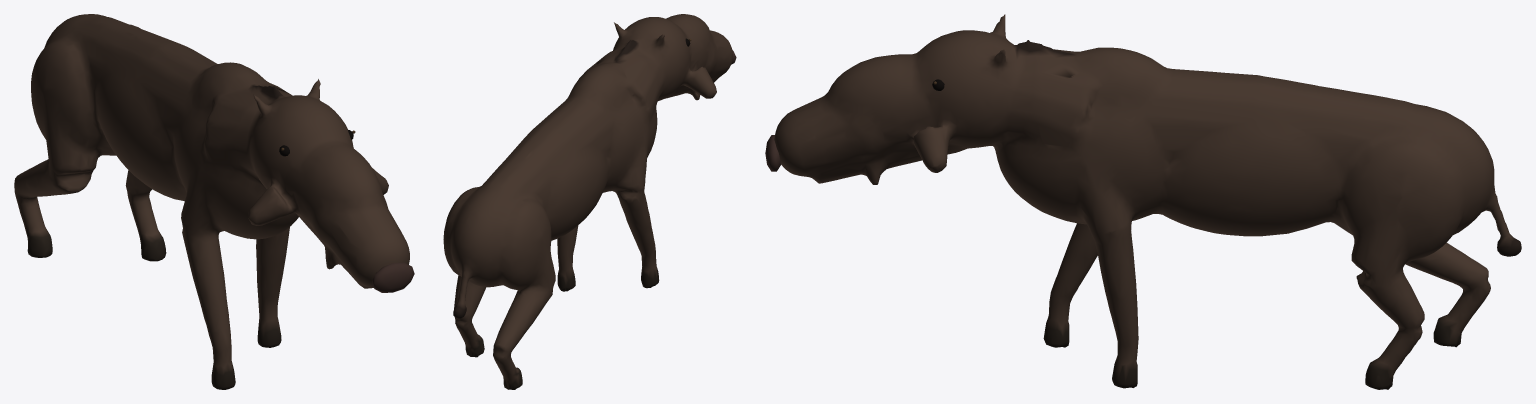
The model's file is ArchaeotheriumMortoni.fbx.
3 views of the same model, side by side, from view 1: azimuth 30°, elevation 25°; view 2: azimuth 150°, elevation 25°; view 3: azimuth 270°, elevation 25° (orthographic). The views are drawn at different scales.
Parts seen in each view (by area): view 1: ArchaeotheriumMortoni; view 2: ArchaeotheriumMortoni; view 3: ArchaeotheriumMortoni.
Part boxes in pixels (x1,y1,x2,y2): ArchaeotheriumMortoni: [14, 14, 414, 389]; ArchaeotheriumMortoni: [443, 14, 736, 389]; ArchaeotheriumMortoni: [765, 14, 1521, 389].
Size of the model in its own units: 0.4558 by 0.9719 by 1.99.
